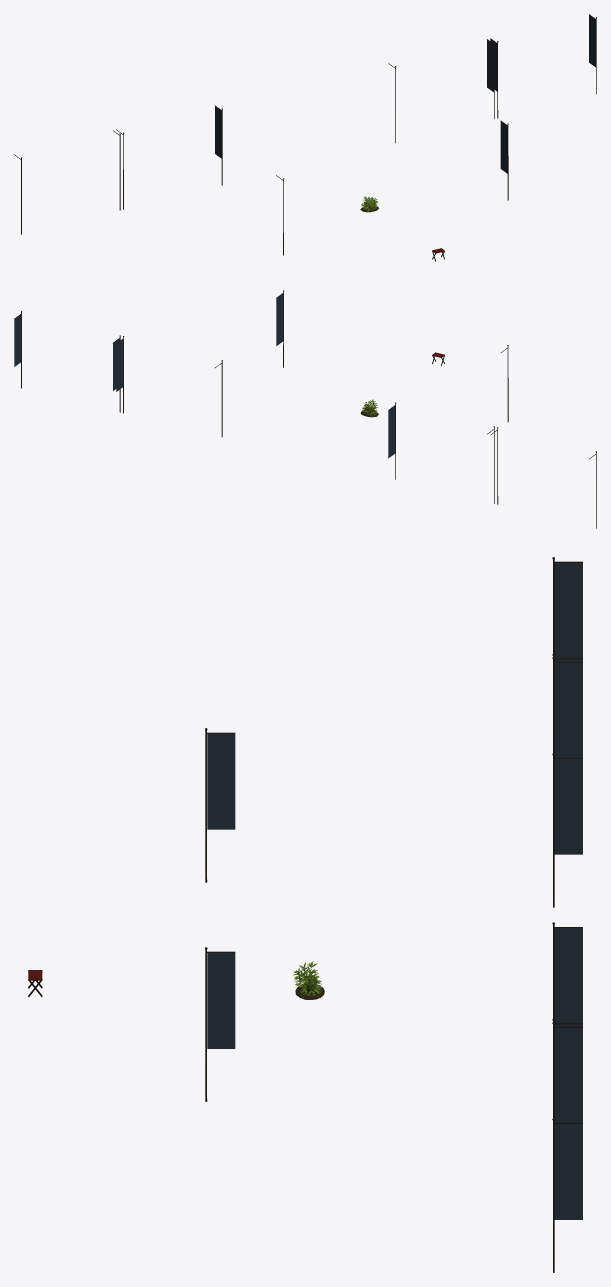
Rendered from army.glb.
3 views of the same model, one above another, from view 1: azimuth 30°, elevation 25°; view 2: azimuth 150°, elevation 25°; view 3: azimuth 270°, elevation 25° (orthographic). The views are drawn at different scales.
Parts seen in each view (by area): view 1: m47, m23, m31, m39; view 2: m39, m31, m23, m47; view 3: m23, m43, m39, m47, m19, m35, m11, m27.
Part boxes in pixels (left/top/right/bottom): m47: left=500, top=121, right=507, bottom=173; m23: left=215, top=106, right=221, bottom=158; m31: left=487, top=40, right=493, bottom=92; m39: left=589, top=15, right=595, bottom=67; m39: left=14, top=314, right=21, bottom=366; m31: left=116, top=339, right=123, bottom=391; m23: left=388, top=406, right=395, bottom=458; m47: left=276, top=294, right=283, bottom=345; m23: left=554, top=758, right=582, bottom=854; m43: left=207, top=733, right=235, bottom=829; m39: left=554, top=1124, right=582, bottom=1219; m47: left=207, top=953, right=235, bottom=1048; m19: left=554, top=662, right=582, bottom=757; m35: left=554, top=1027, right=582, bottom=1122; m11: left=554, top=563, right=582, bottom=657; m27: left=554, top=928, right=582, bottom=1022.
Size of what is drawn, in the model's own units: 33.87 by 4.36 by 14.13.
Materials: 15 (2 with a texture image).
